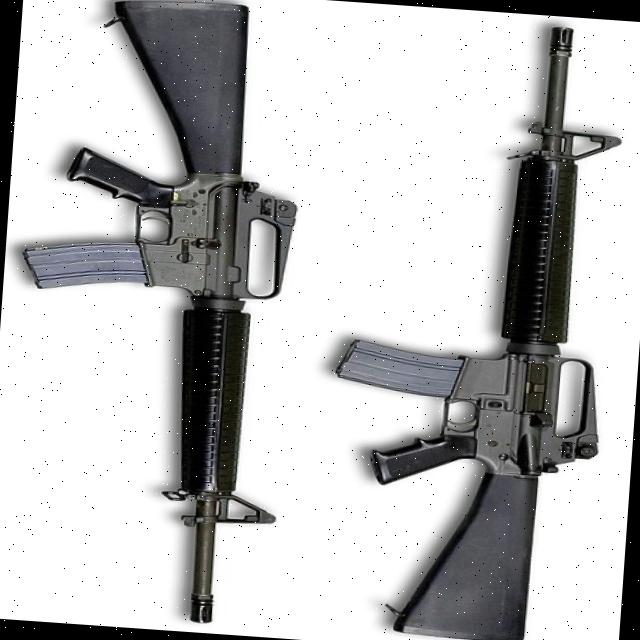Automaticrifle: (316, 13, 627, 640), (5, 0, 307, 625)
